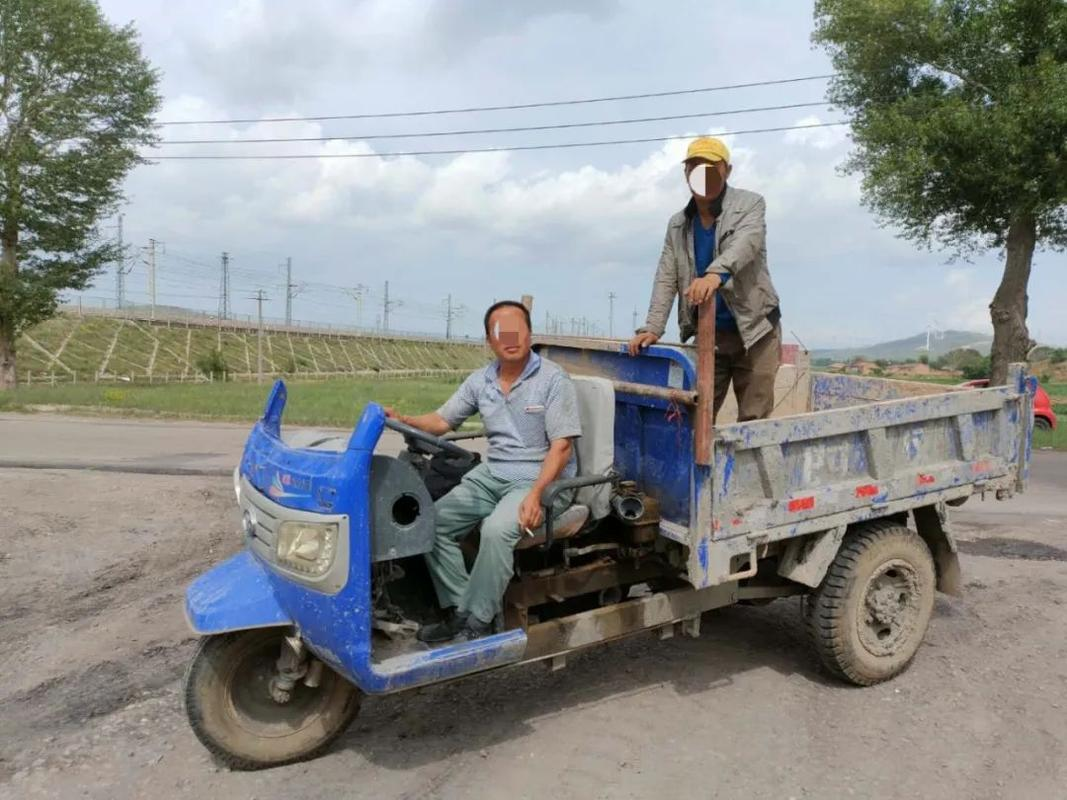driver: (411, 294, 578, 618)
overloading: (175, 147, 1019, 763)
passenger: (644, 114, 785, 479)
